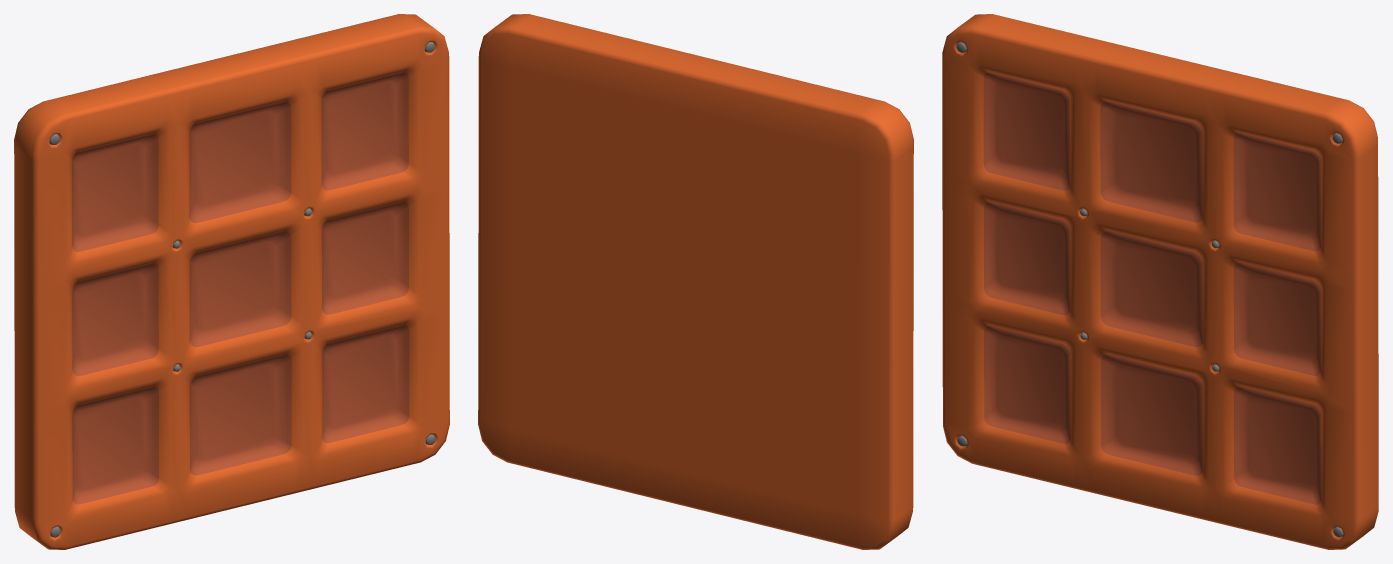
File: Bounds (GN).glb
3 renders of one model, left to right at view 1: azimuth 30°, elevation 25°; view 2: azimuth 150°, elevation 25°; view 3: azimuth 330°, elevation 25°, orthographic.
Visible parts, largest first — view 1: Bounds GN; view 2: Bounds GN; view 3: Bounds GN.
Boxes of the visible parts, box(x1,y1,x2,y2) form: Bounds GN: box(14, 14, 449, 549); Bounds GN: box(478, 14, 913, 549); Bounds GN: box(942, 14, 1378, 549).
Bounding box in the file's own units: 10.62 × 10.62 × 1.02.
